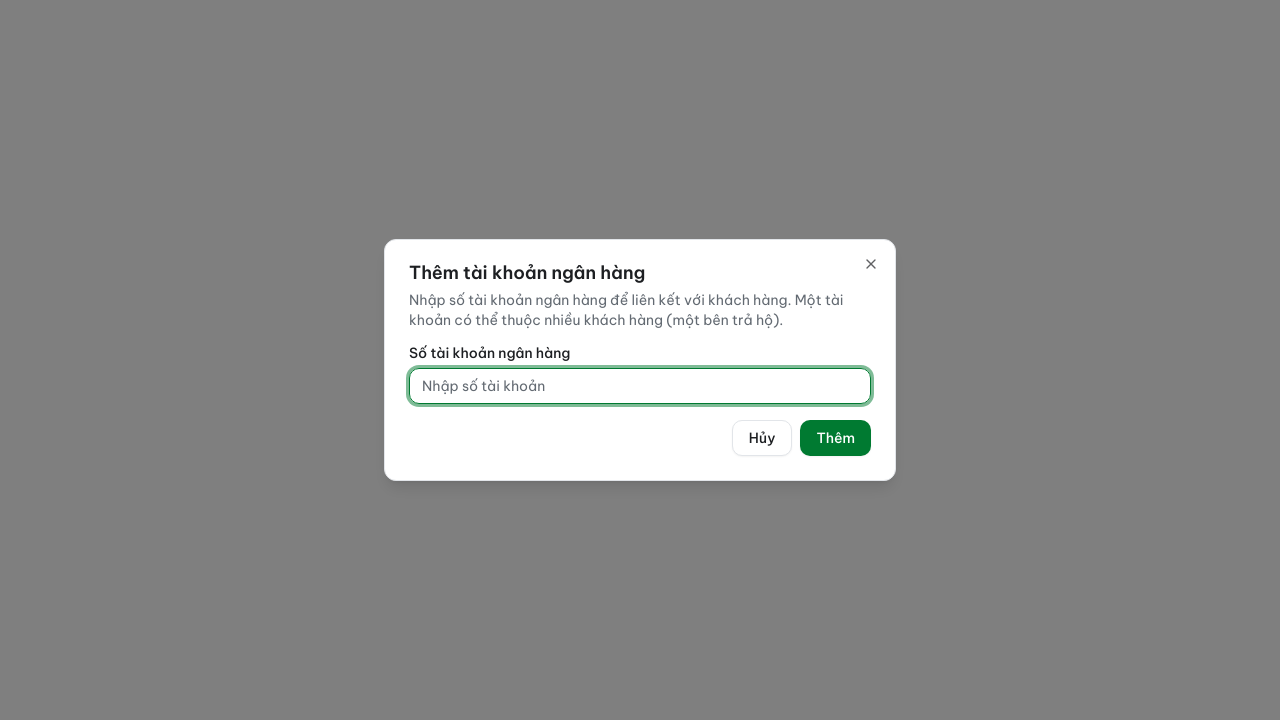
it: CustomerBankAccountDialog › explains that duplicate accounts should be restored inline
Type "0011 2233" into the field labelled "Số tài khoản ngân hàng" at (640, 386), box [409, 368, 871, 404]
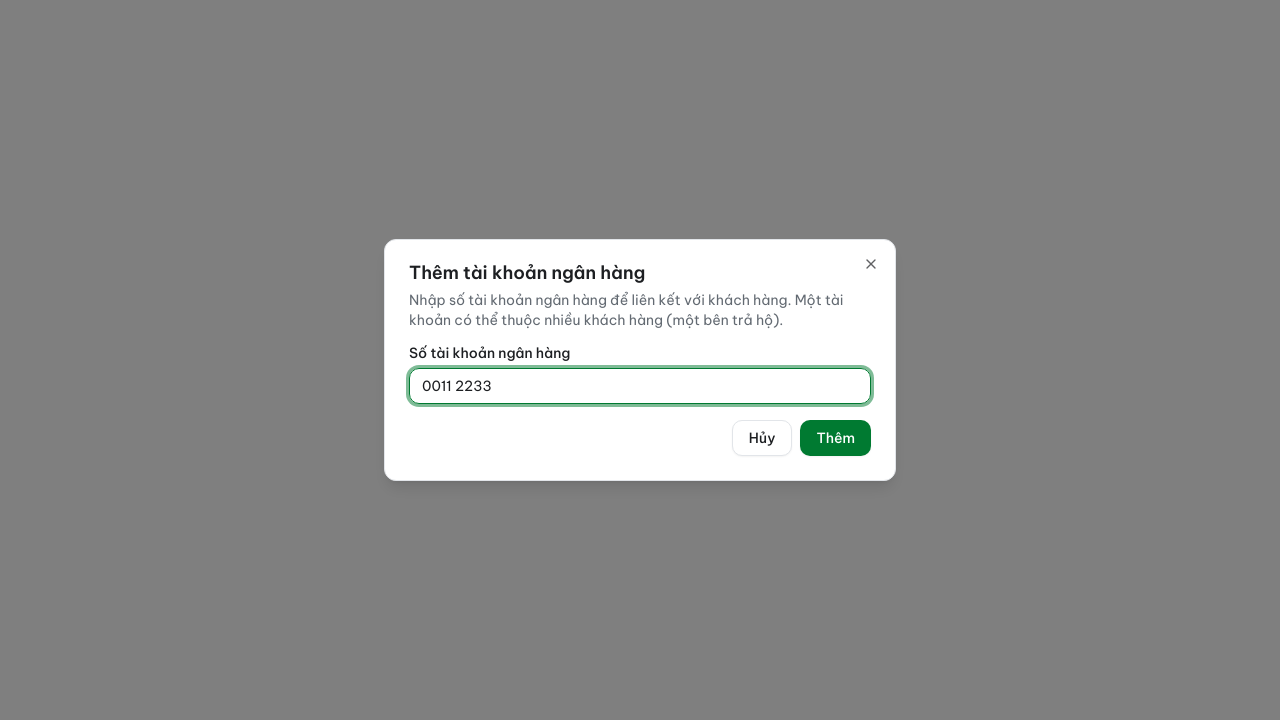
Click the button "Thêm" at (836, 438), box [800, 420, 871, 456]
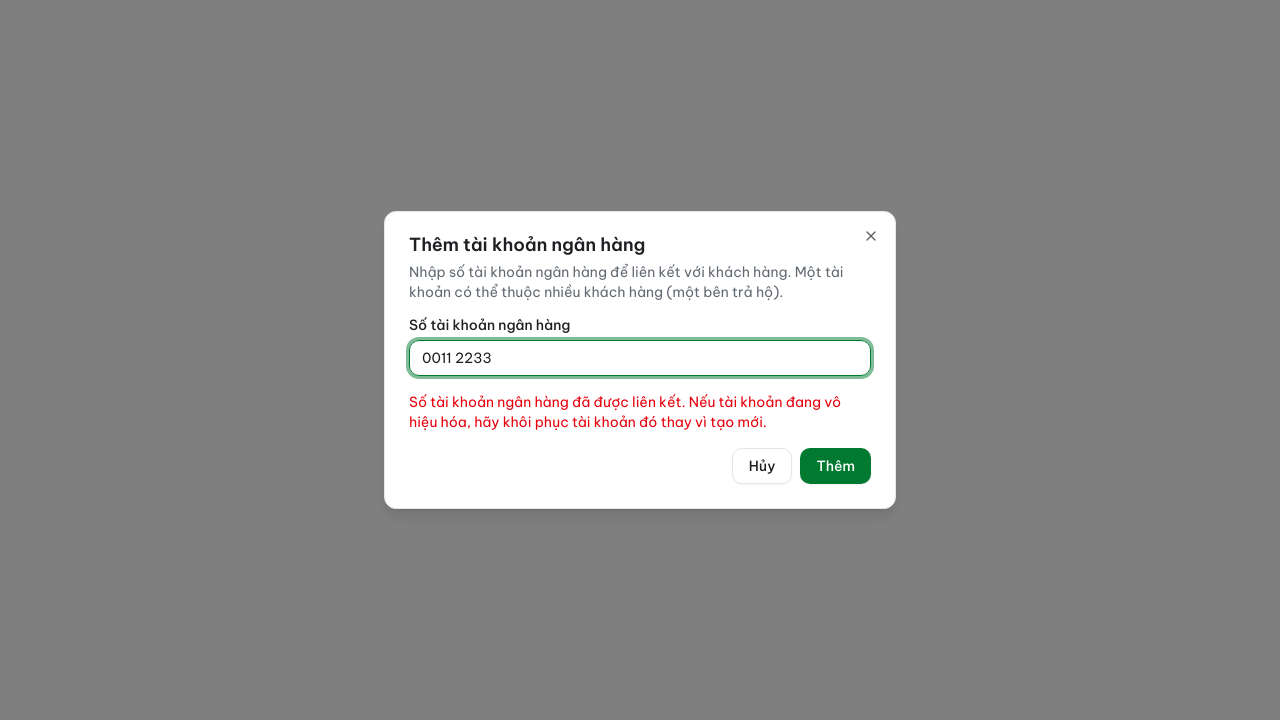
Expected: the message shows "Số tài khoản ngân hàng đã được liên kết.", [409, 393, 841, 431]
Expected: the message shows "Nếu tài khoản đang vô hiệu hóa, hãy khôi phục tài khoản đó thay vì tạo mới.", [409, 393, 841, 431]
